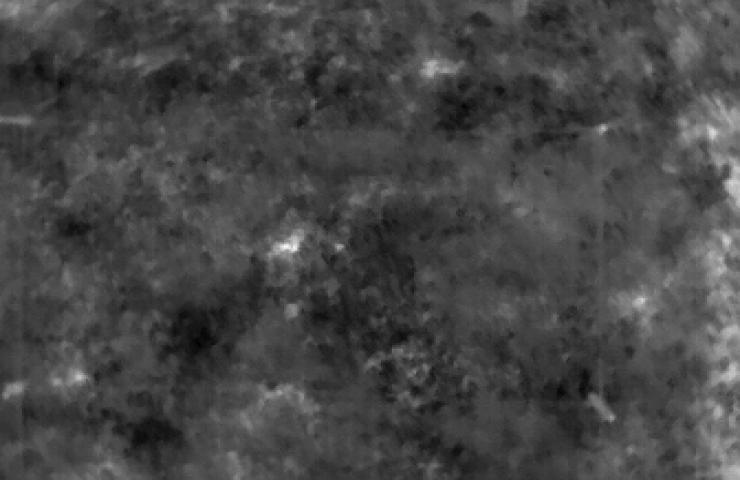landmines: (273, 231, 304, 257)
